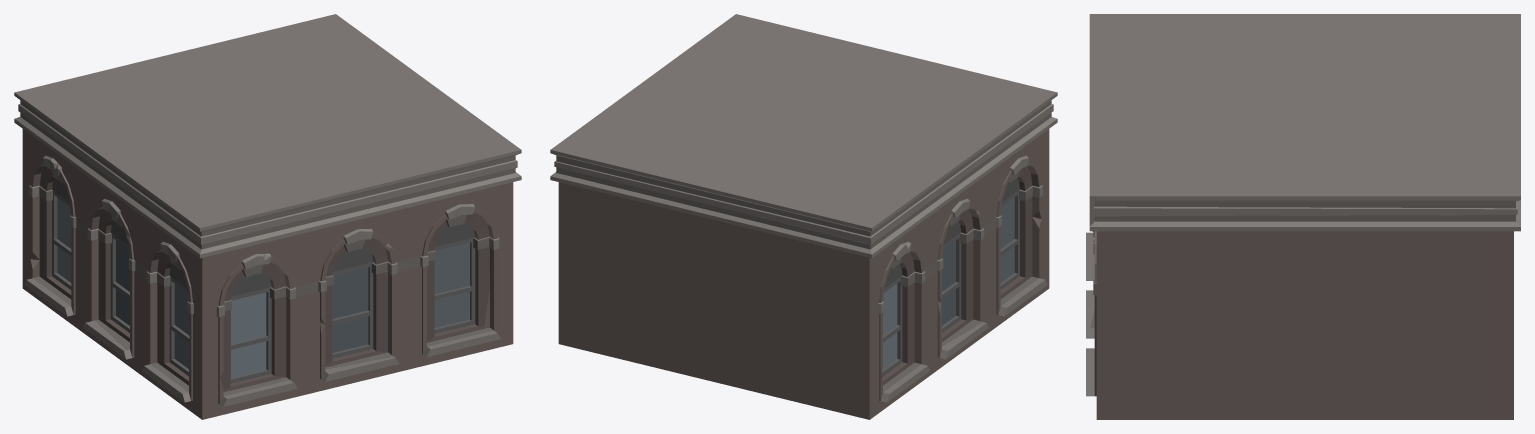
File: house3.fbx
3 renders of one model, left to right at view 1: azimuth 30°, elevation 25°; view 2: azimuth 150°, elevation 25°; view 3: azimuth 270°, elevation 25°, orthographic. The views are drawn at different scales.
Visible parts, largest first — view 1: SM_Bld_Apartment_Corner_02; view 2: SM_Bld_Apartment_Corner_02; view 3: SM_Bld_Apartment_Corner_02.
Part boxes in pixels (x1=…): SM_Bld_Apartment_Corner_02: x1=14, y1=14, x2=521, y2=419; SM_Bld_Apartment_Corner_02: x1=550, y1=14, x2=1057, y2=419; SM_Bld_Apartment_Corner_02: x1=1086, y1=14, x2=1520, y2=419.
Bounding box in the file's own units: 0.0521 × 0.03 × 0.0521.
Materials: 1 (1 with a texture image).
